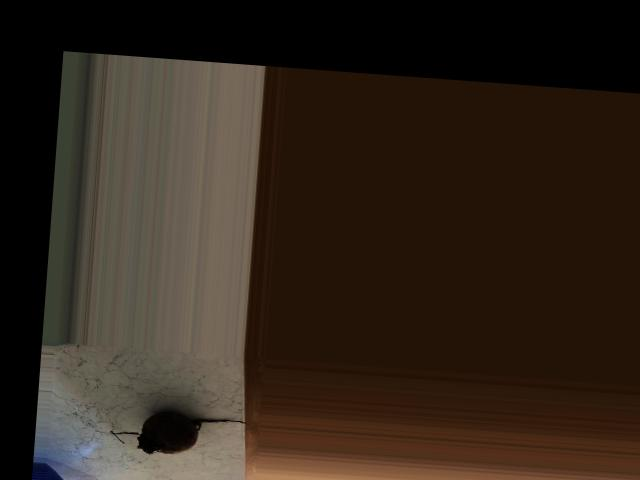beet: (109, 407, 250, 459)
